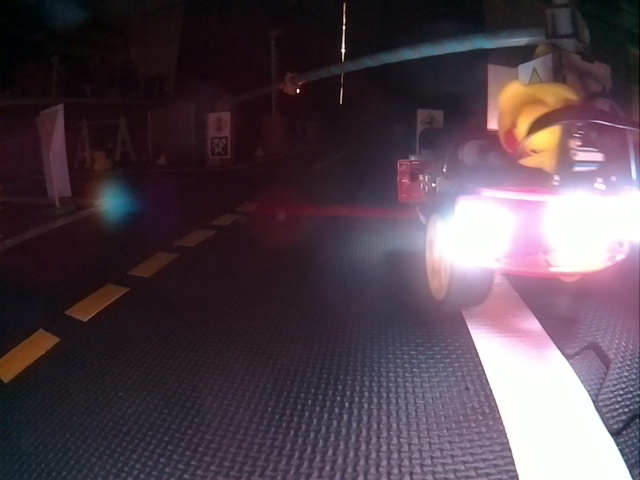Duckie: (498, 82, 579, 172), (93, 150, 113, 171), (157, 156, 167, 165)
Duckiebot: (398, 121, 636, 307)
Intersection sign: (418, 112, 442, 130)
QR code: (210, 136, 229, 155)
Signal sign: (210, 115, 228, 133)
